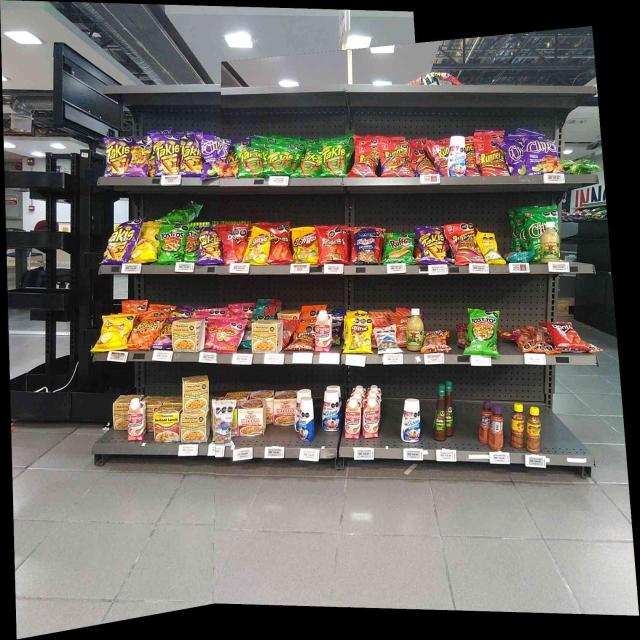bitzEnchilado90: (396, 314, 406, 347)
bitzEnchilado95: (519, 327, 549, 352)
bokadosCacahuates: (357, 229, 375, 264)
botaneraChilito: (527, 407, 541, 452), (512, 403, 524, 449)
cheetosFlaminHot: (158, 319, 172, 348)
cheetosOriginal: (132, 318, 154, 349)
chipsFuego: (526, 136, 560, 174), (203, 137, 228, 177), (507, 139, 525, 175)
chipsJalapeno: (527, 209, 540, 262)
chipsPapatinas: (566, 159, 596, 174)
churrumais: (218, 321, 240, 351)
delPrimoSalsa: (407, 308, 423, 351), (542, 222, 559, 262)
doritosNacho: (223, 225, 246, 262), (553, 321, 580, 350), (270, 224, 290, 263)
fritosLimon: (348, 318, 370, 352), (249, 230, 268, 264), (297, 230, 317, 262)
leoCacahuates: (214, 402, 232, 444), (377, 328, 396, 352)
leoMix: (294, 325, 314, 350), (425, 332, 449, 352)
maruchanPollo: (173, 321, 204, 350), (253, 321, 282, 352), (183, 376, 208, 410), (182, 412, 209, 441)
nestleCarnation: (128, 400, 146, 439), (363, 398, 379, 438), (316, 312, 331, 351), (346, 398, 360, 438)
nestleLechera: (322, 390, 341, 431), (402, 399, 420, 442), (300, 398, 315, 442), (450, 136, 465, 176)
nissinRes: (154, 406, 180, 441), (239, 401, 266, 434), (274, 391, 295, 425)
rancheritos: (320, 230, 344, 264)
rufflesQueso: (384, 232, 413, 263)
runners: (478, 137, 504, 176), (381, 142, 408, 176), (454, 224, 478, 262), (356, 143, 376, 177), (414, 147, 431, 175), (435, 144, 448, 176)
sabritasOriginal: (137, 225, 157, 264), (102, 316, 125, 348)
salsaBufalo: (433, 384, 445, 441), (446, 380, 454, 437)
semillasCalabaza: (483, 232, 499, 262)
tajinDulce: (491, 406, 504, 449), (480, 401, 490, 444)
takisFuego: (108, 220, 134, 264), (154, 135, 179, 174), (421, 227, 445, 264), (106, 138, 128, 176), (199, 228, 221, 264), (183, 137, 200, 177), (130, 143, 148, 177)
takisOriginal: (322, 142, 346, 177), (239, 146, 263, 178), (268, 144, 290, 176), (300, 149, 320, 176)
tostitos: (470, 309, 496, 355), (160, 226, 183, 262), (185, 226, 198, 262)
